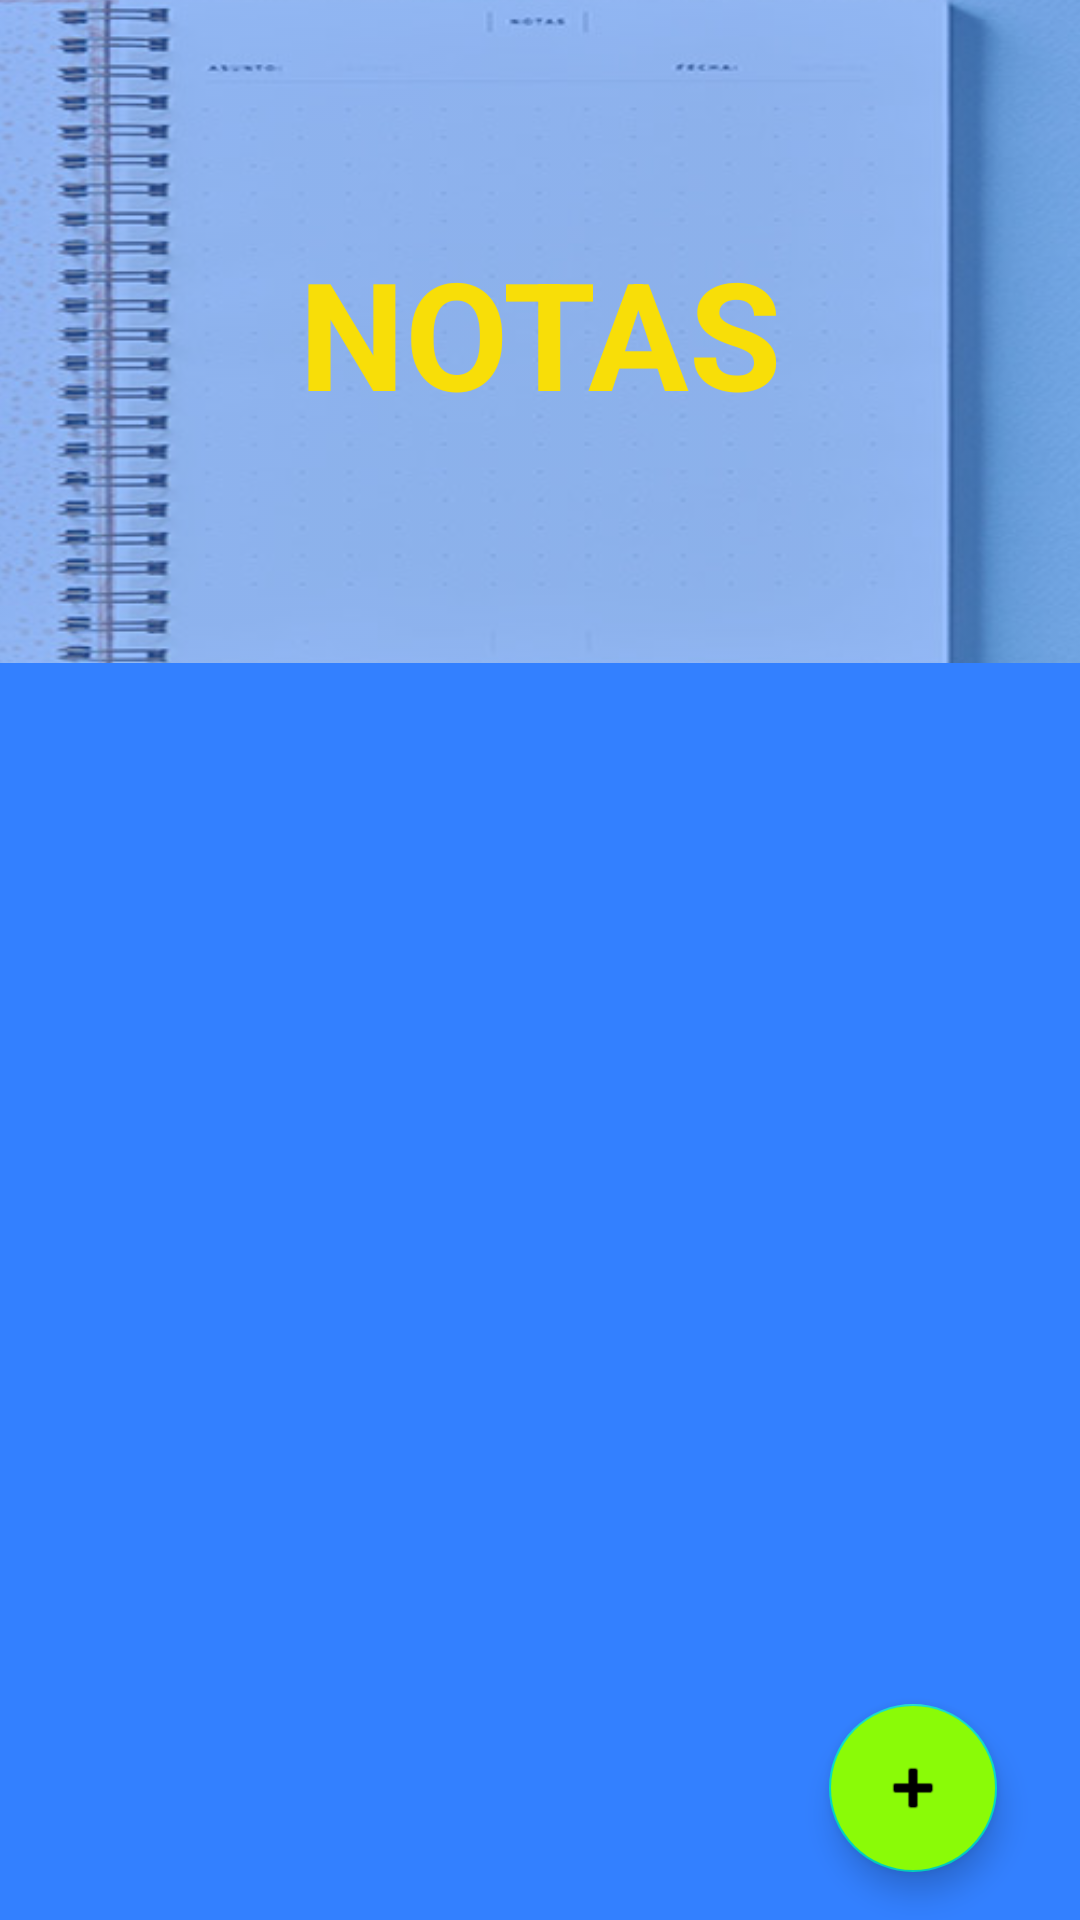

Screen size 1080px x 1920px. Icon name, then its box in pixels as bbox=(x1, y1, x2, y2):
add: bbox=(829, 1704, 997, 1872)
